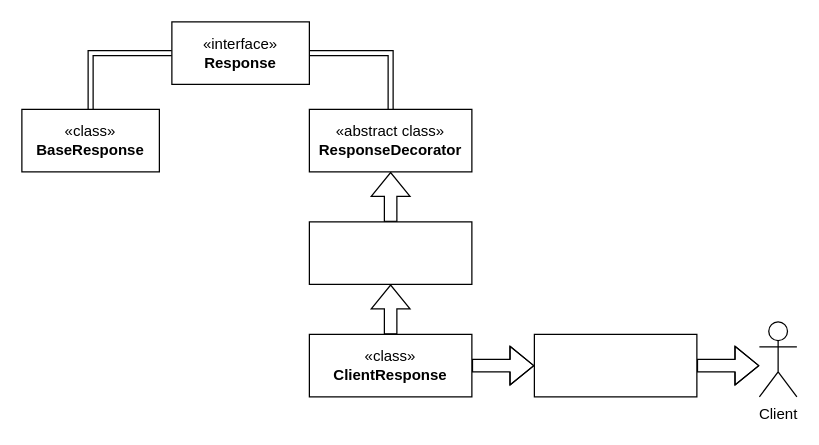
Some shapes in this 819 by 445 pixel diagram are drawn without their labels. The centre of each missing label's shape, as x and y in pixels:
"«class» JsonResponse" belongs at (390,252).
"«class» Main" belongs at (615,365).
